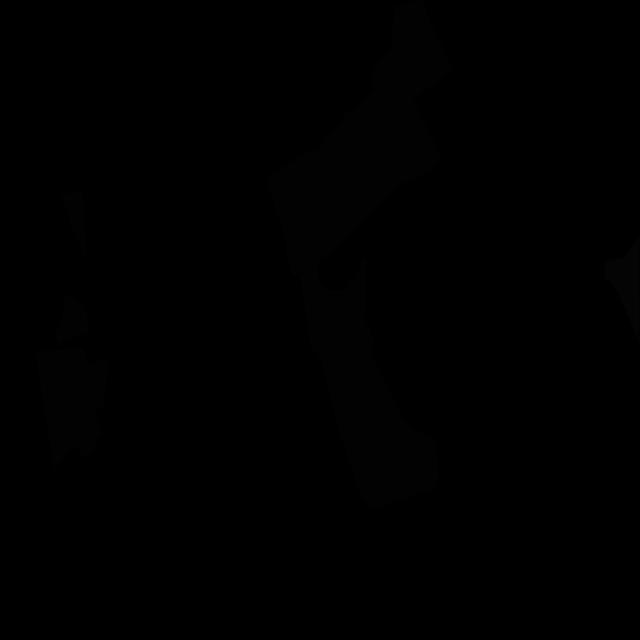cardboard: (268, 0, 454, 276), (300, 256, 439, 509), (35, 348, 109, 470), (60, 190, 87, 265), (55, 295, 89, 345)
soft_plastic: (604, 235, 640, 346)
